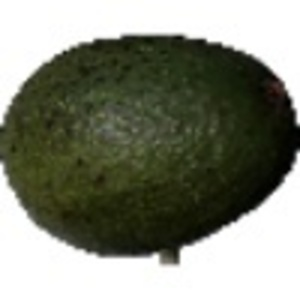abacate: (2, 31, 296, 255)
